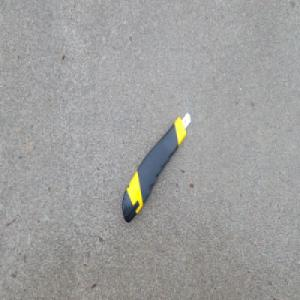Cutter: (121, 110, 192, 225)
